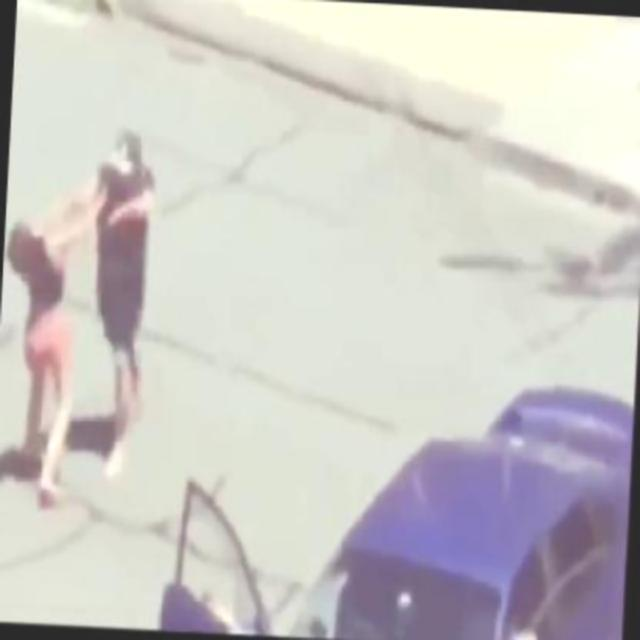fight: (0, 122, 162, 510)
